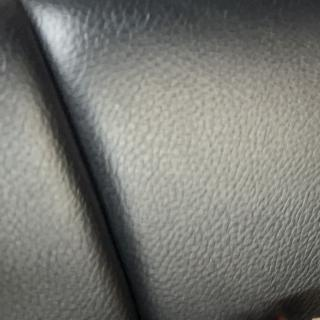fire: (278, 317, 303, 320)
